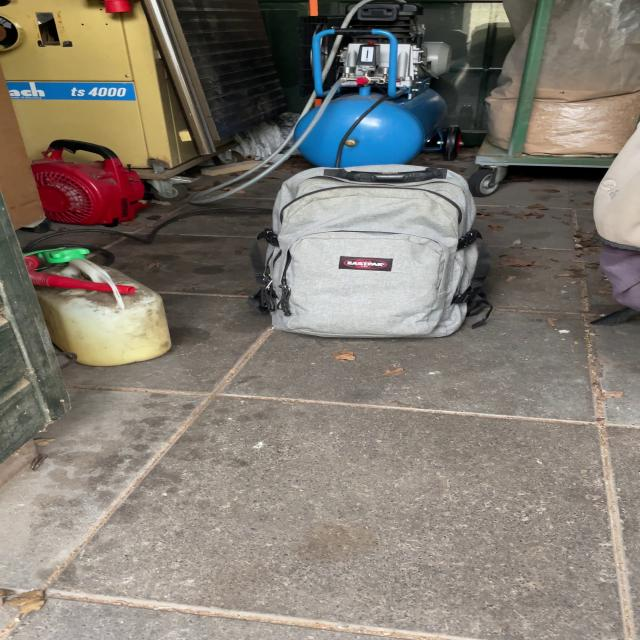backpack: (235, 157, 503, 346)
